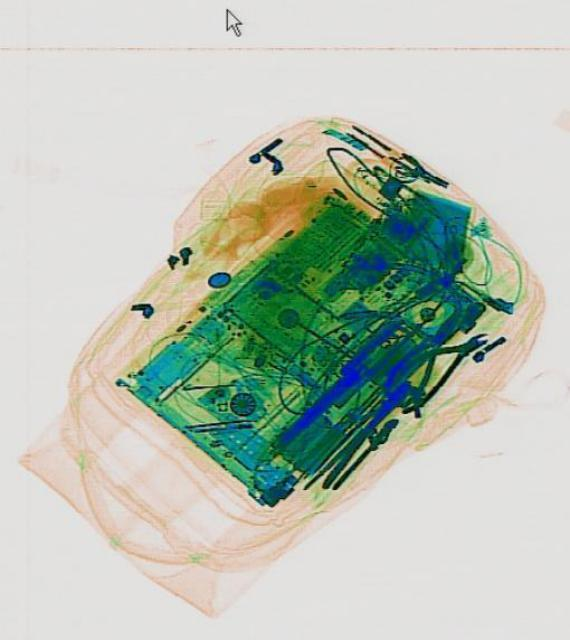Pliers: (375, 312, 498, 418)
